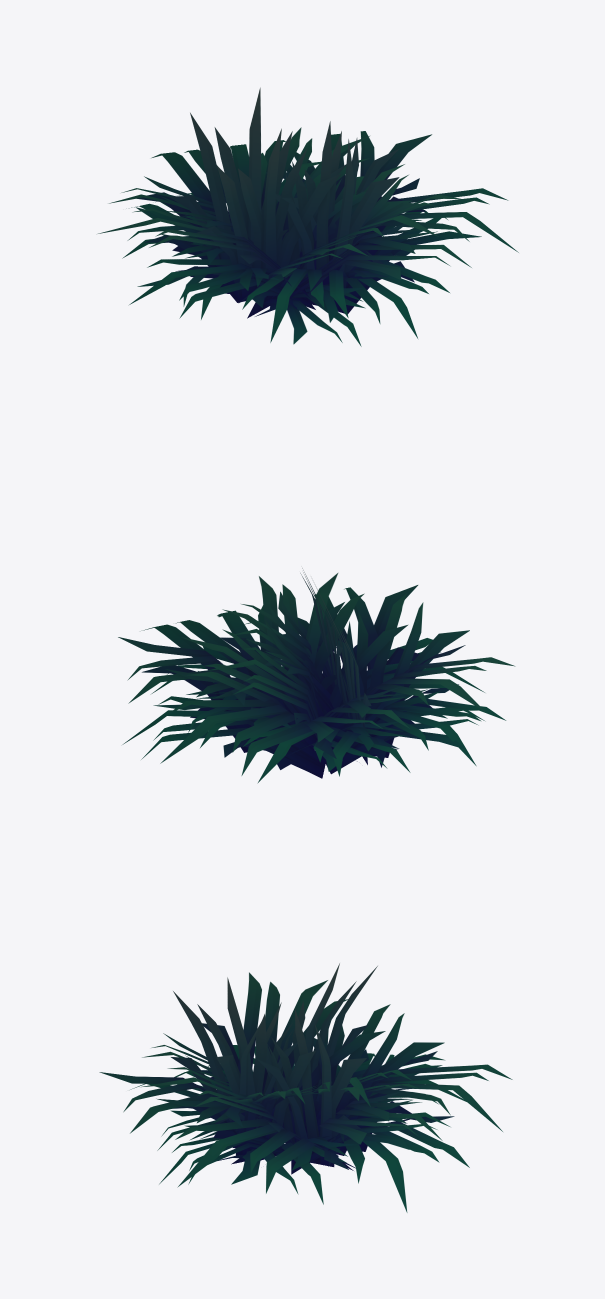
File: SM_Env_Grass_Bush_01.gltf
The picture shows the model from 3 angles, top to bottom: view 1: azimuth 30°, elevation 25°; view 2: azimuth 150°, elevation 25°; view 3: azimuth 270°, elevation 25°; orthographic projection. The views are drawn at different scales.
Parts seen in each view (by area): view 1: SM_Env_Grass_Bush_01_LOD0; view 2: SM_Env_Grass_Bush_01_LOD0; view 3: SM_Env_Grass_Bush_01_LOD0.
Part boxes in pixels (x1,y1,x2,y2): SM_Env_Grass_Bush_01_LOD0: (98,87,518,346); SM_Env_Grass_Bush_01_LOD0: (118,568,515,783); SM_Env_Grass_Bush_01_LOD0: (99,963,512,1212).
Size of what is drawn, in the model's own units: 2.28 by 1.2 by 2.31.
Materials: 1 (1 with a texture image).
